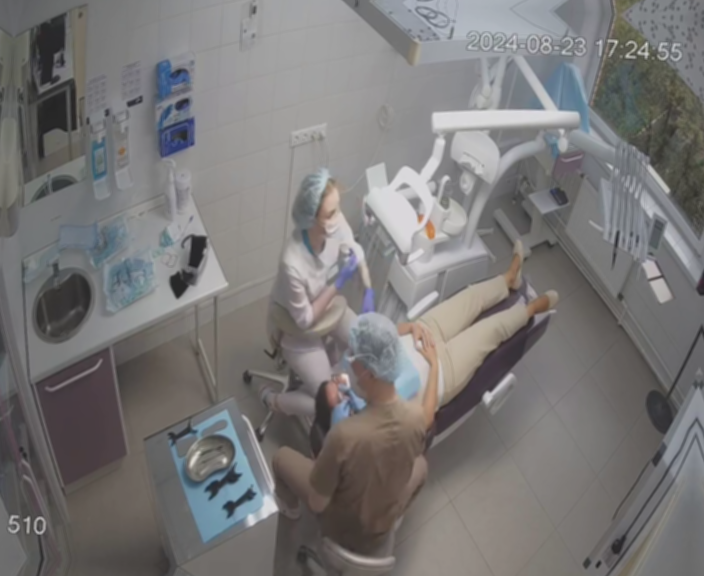Patient: (307, 225, 565, 480)
